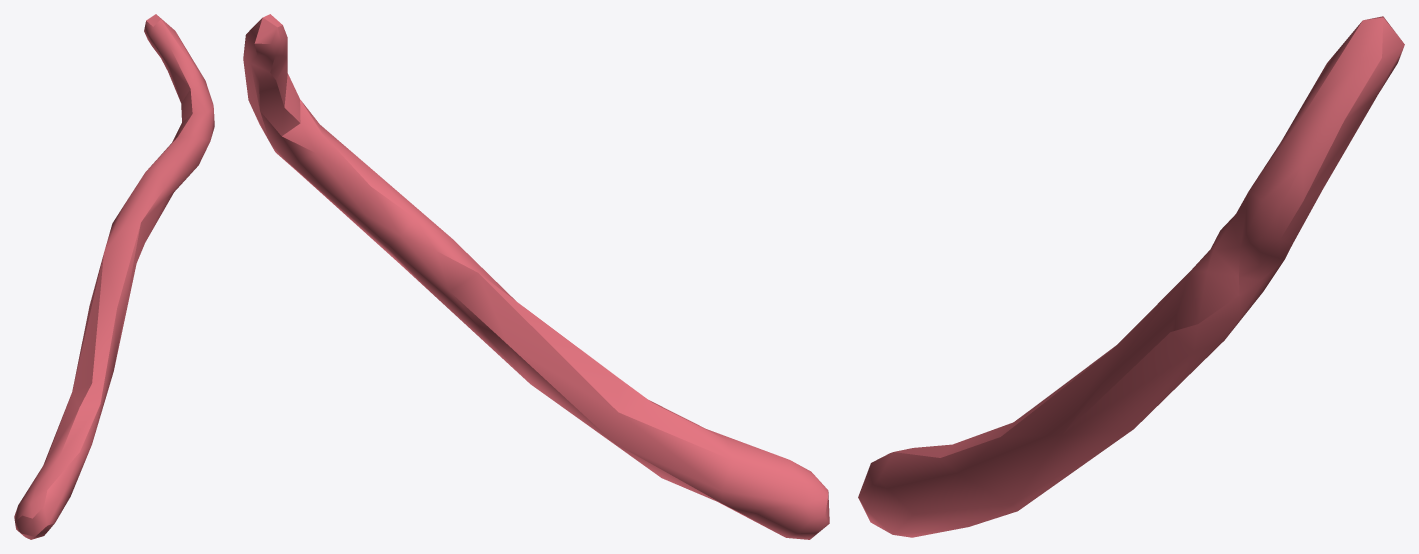
File: fma4712_fj2710.glb
3 renders of one model, left to right at view 1: azimuth 30°, elevation 25°; view 2: azimuth 150°, elevation 25°; view 3: azimuth 270°, elevation 25°, orthographic. The views are drawn at different scales.
Visible parts, largest first — view 1: FMA4712_FJ2710; view 2: FMA4712_FJ2710; view 3: FMA4712_FJ2710.
Boxes of the visible parts, x1,y1,x2,y2 form: FMA4712_FJ2710: (14, 14, 214, 539); FMA4712_FJ2710: (243, 14, 829, 539); FMA4712_FJ2710: (858, 16, 1404, 537).
Size of the model in its own units: 0.00654 by 0.00809 by 0.00532.
